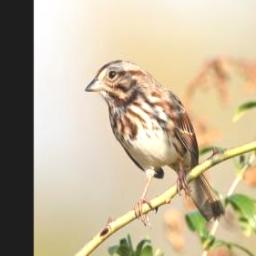Sparrow: (85, 58, 227, 230)
